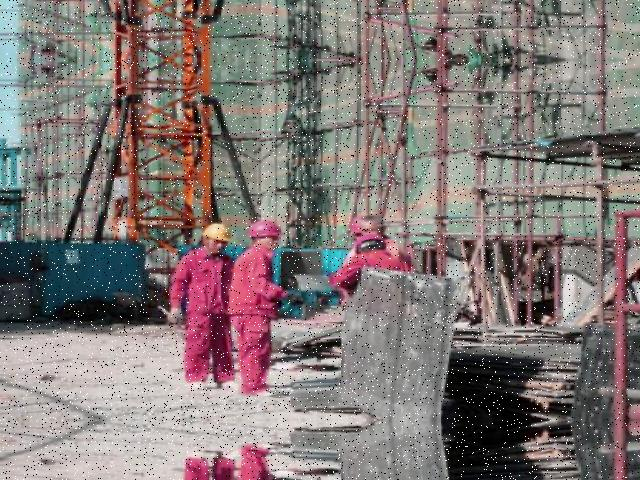Helmet: (241, 218, 282, 244), (194, 219, 230, 246), (351, 232, 387, 253)
